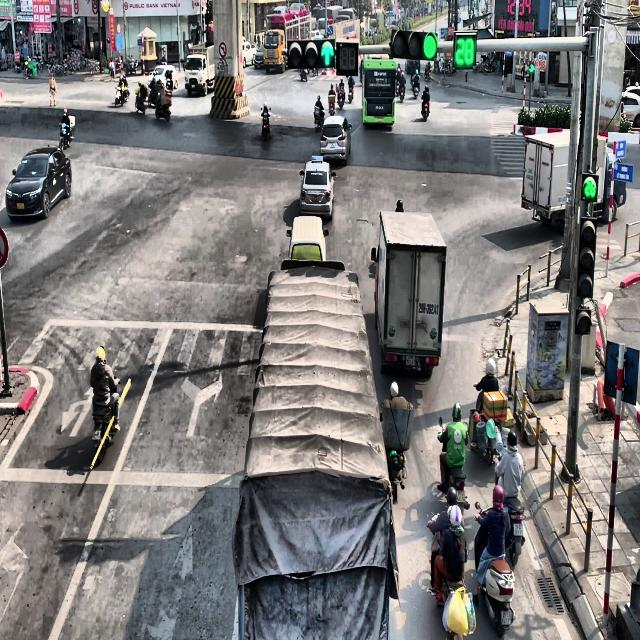lisence_plate: (499, 607, 514, 629), (402, 353, 419, 368), (92, 427, 102, 446), (513, 521, 523, 537), (329, 142, 336, 149), (313, 196, 319, 202), (377, 118, 383, 122)
